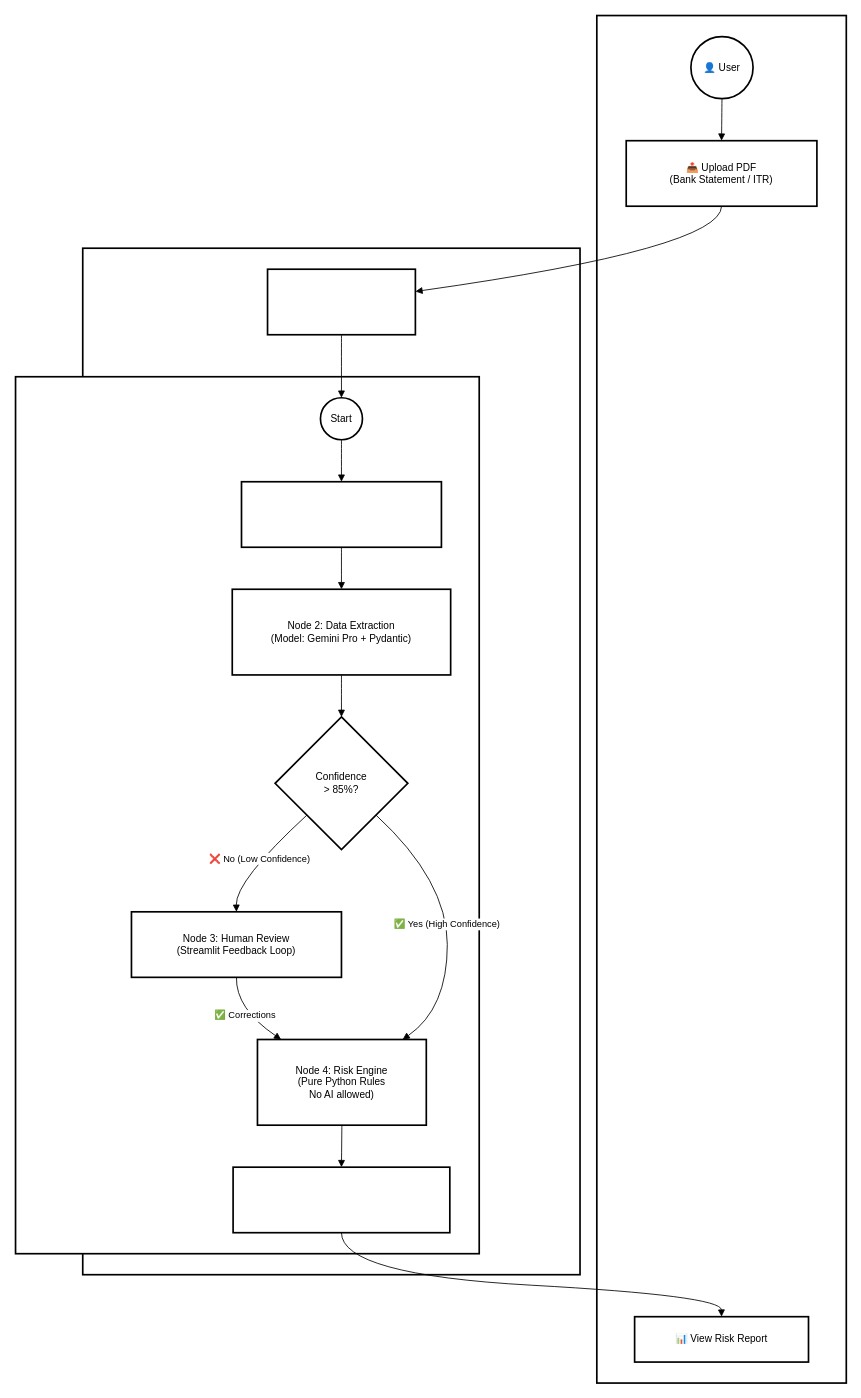
Some shapes in this 861 by 1398 pixel diagram are drawn without their labels. The shapes that lost their labels are listed below. From the top down, each one's box as (x1, y1, x2, y2) in pixels, then its label:
(266, 268, 416, 335): 🔌 REST API (POST /analyze)
(240, 480, 442, 548): Node 1: Ingest & Classify (Tool: LlamaParse OCR)
(596, 14, 847, 1383): 🖥️ Client Side (Streamlit)
(14, 375, 480, 1254): 🧠 LangGraph Workflow
(232, 1166, 450, 1233): Node 5: Generate JSON (Approval/Rejection Memo)
